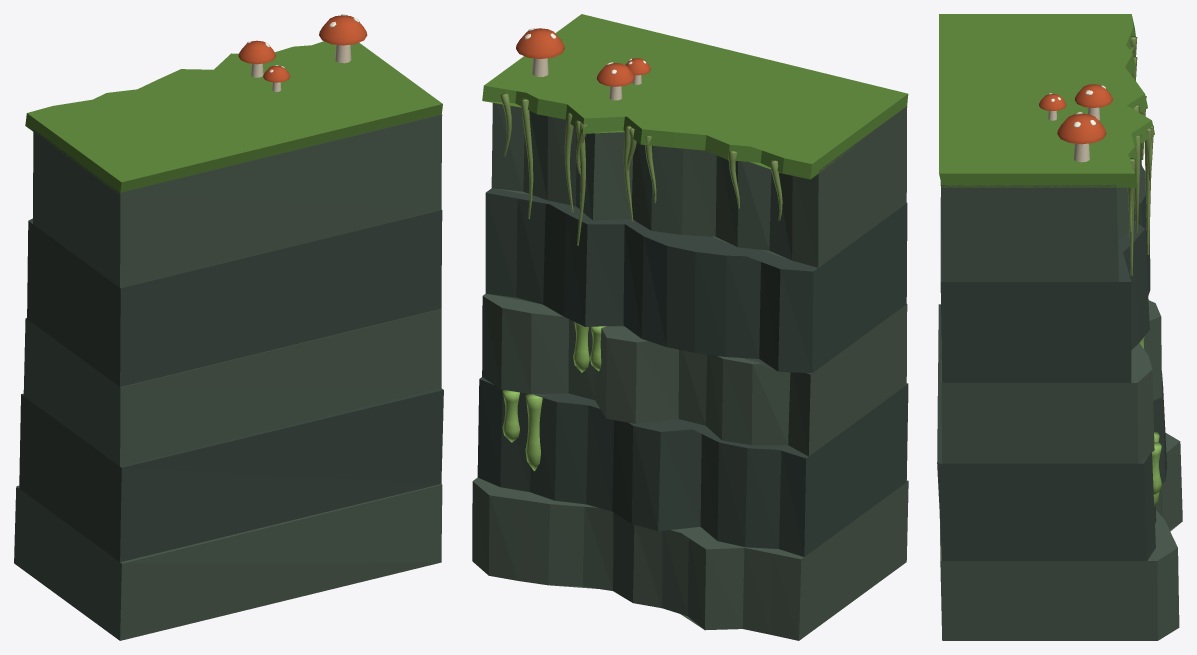
Rendered from Cliff_Swamp.glb.
3 renders of one model, left to right at view 1: azimuth 30°, elevation 25°; view 2: azimuth 150°, elevation 25°; view 3: azimuth 270°, elevation 25°, orthographic.
Visible parts, largest first — view 1: Rock, RockDark, Moss, Caps; view 2: Rock, RockDark, Moss, HangingMoss, Goo, Caps; view 3: Rock, RockDark, Moss, Caps, HangingMoss, Goo, Stems.
Boxes of the visible parts, bbox=[...] form: Rock: bbox=[14, 114, 442, 640]; RockDark: bbox=[19, 209, 443, 562]; Moss: bbox=[25, 41, 442, 194]; Caps: bbox=[238, 15, 367, 82]; Rock: bbox=[472, 103, 908, 640]; RockDark: bbox=[477, 188, 908, 556]; Moss: bbox=[482, 14, 908, 179]; HangingMoss: bbox=[500, 93, 782, 245]; Goo: bbox=[502, 322, 606, 470]; Caps: bbox=[516, 28, 650, 86]; Rock: bbox=[939, 182, 1182, 640]; RockDark: bbox=[937, 149, 1166, 560]; Moss: bbox=[939, 14, 1154, 187]; Caps: bbox=[1039, 84, 1112, 144]; HangingMoss: bbox=[1127, 35, 1153, 275]; Goo: bbox=[1139, 336, 1161, 505]; Stems: bbox=[1048, 107, 1099, 162].
Size of the model in its own units: 24 by 35.74 by 15.62.
